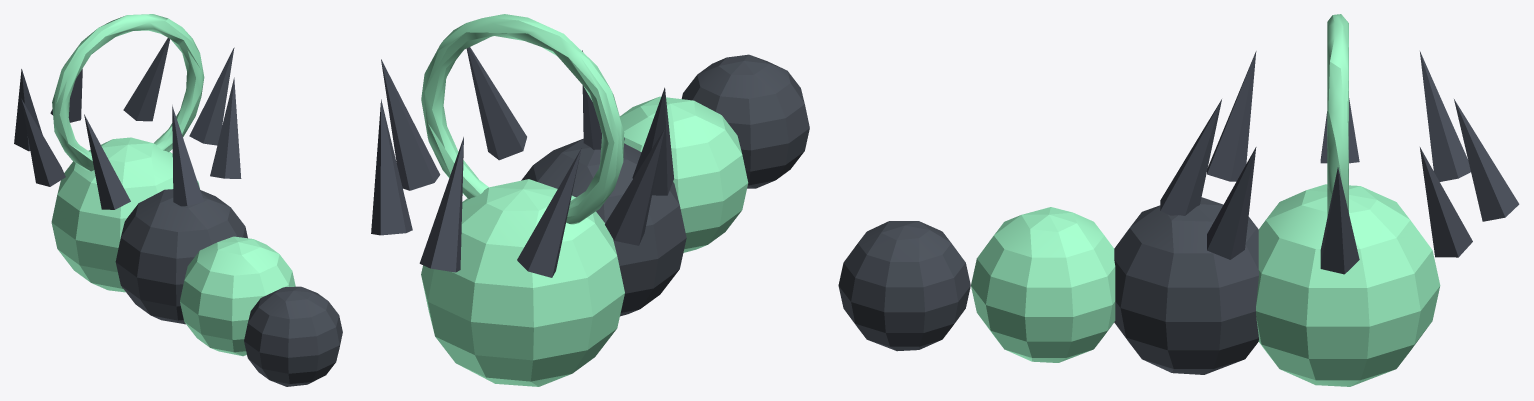
File: SM_Boss_Nerobahn_LOD1.fbx
3 views of the same model, side by side, from view 1: azimuth 30°, elevation 25°; view 2: azimuth 150°, elevation 25°; view 3: azimuth 270°, elevation 25° (orthographic). The views are drawn at different scales.
Parts seen in each view (by area): view 1: SM_Boss_Nerobahn_LOD1; view 2: SM_Boss_Nerobahn_LOD1; view 3: SM_Boss_Nerobahn_LOD1.
Part boxes in pixels (x1,y1,x2,y2): SM_Boss_Nerobahn_LOD1: (14, 14, 342, 386); SM_Boss_Nerobahn_LOD1: (371, 14, 809, 386); SM_Boss_Nerobahn_LOD1: (838, 14, 1519, 386).
Size of the model in its own units: 3.19 by 3.86 by 6.74.
